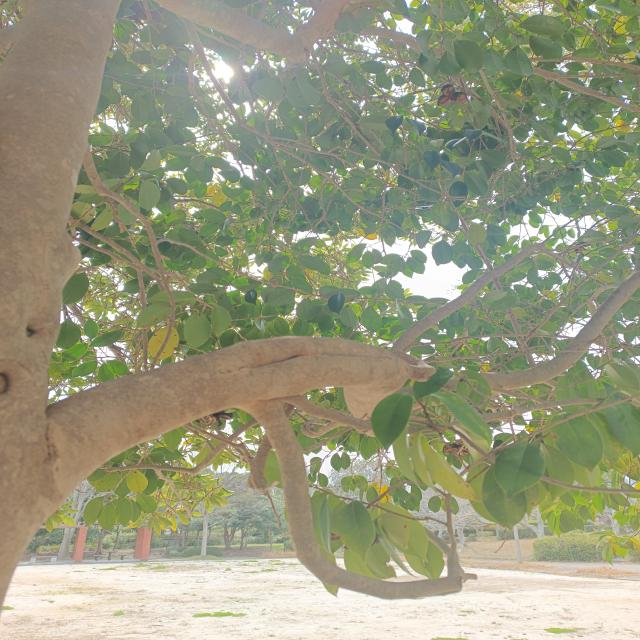Branch: (47, 337, 407, 514)
Twig: (230, 402, 462, 602), (410, 270, 640, 389), (393, 242, 559, 353), (286, 395, 418, 434)
